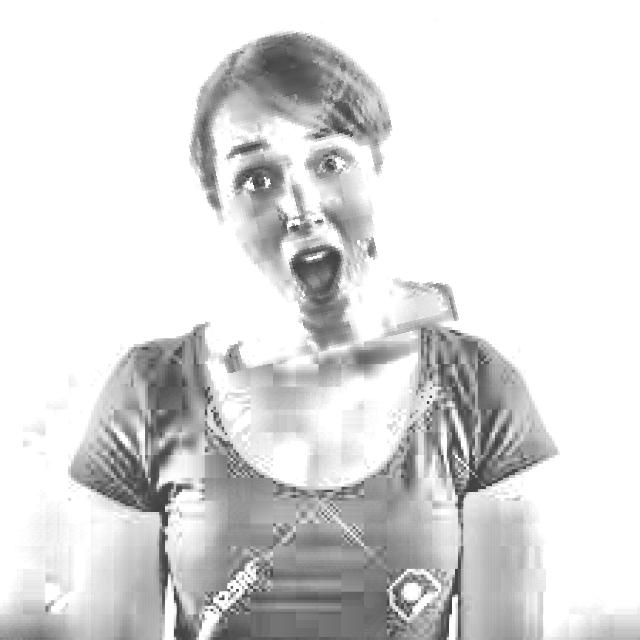surprise: (171, 13, 443, 362)
